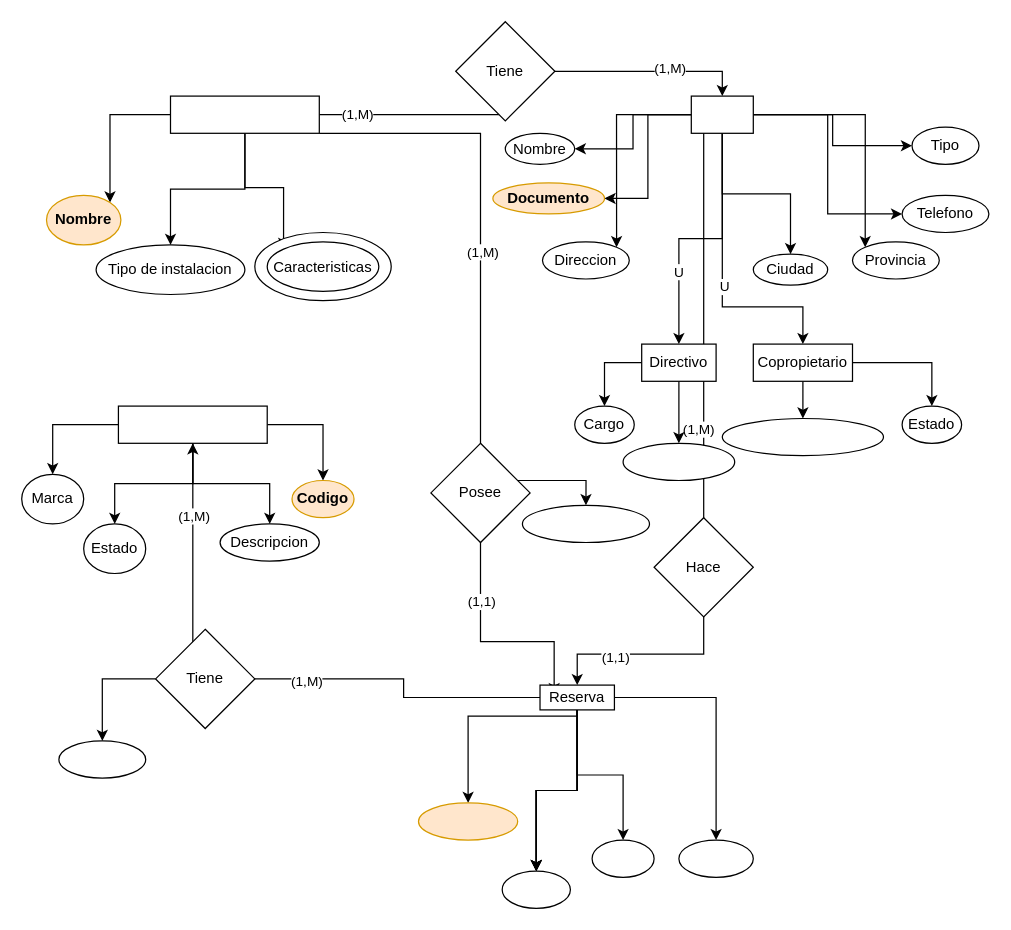
Image size: 1011x930. Some labels were removed from this diagram. The centre of each missing label's shape, as x and y in pixels:
Articulo_deportivo: pixel 192 424
Cantidad: pixel 102 759
Consecutivo: pixel 467 821
Detalle_reserva: pixel 585 523
F_inicioCargo: pixel 678 461
Fecha: pixel 535 889
H_fin: pixel 622 858
H_inicio: pixel 715 858
Instalacion Deportiva: pixel 244 114
Nombre_beneficiarios: pixel 802 436
Socio: pixel 721 114
